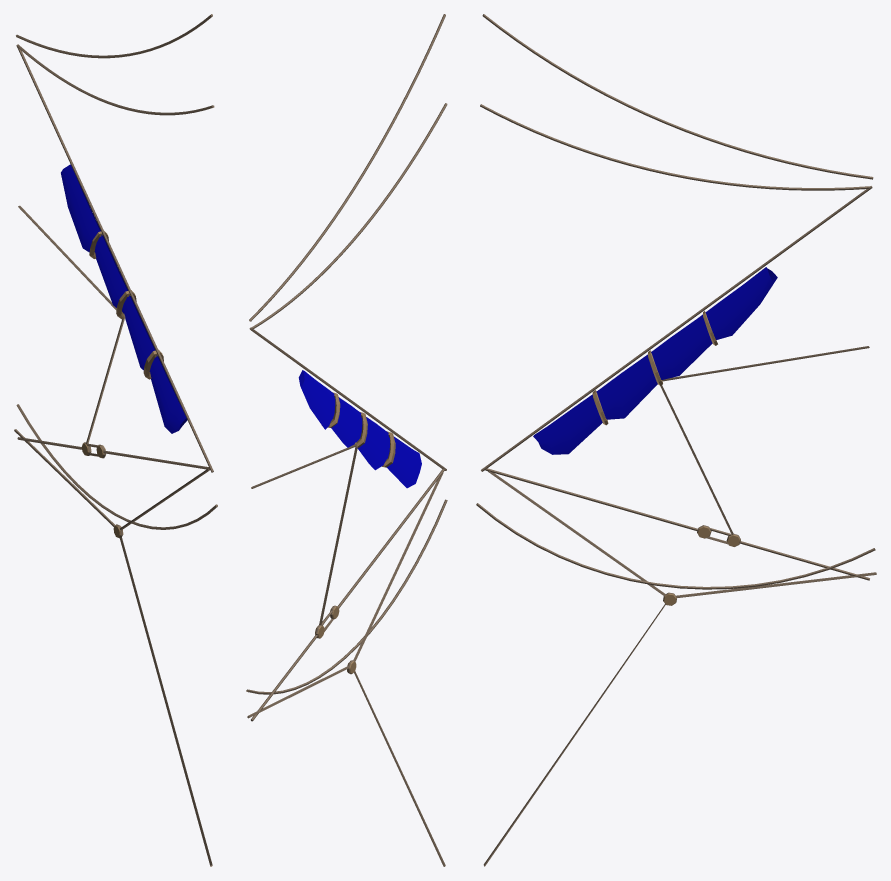
The model's file is SM_Veh_Ship_L_01_Rigging_Middle_02_Tied_01.fbx.
The picture shows the model from 3 angles, left to right: view 1: azimuth 30°, elevation 25°; view 2: azimuth 150°, elevation 25°; view 3: azimuth 270°, elevation 25°; orthographic projection.
Parts seen in each view (by area): view 1: SM_Veh_Ship_L_01_Rigging_Middle_02_Tied_01; view 2: SM_Veh_Ship_L_01_Rigging_Middle_02_Tied_01; view 3: SM_Veh_Ship_L_01_Rigging_Middle_02_Tied_01.
Part boxes in pixels (box(x1,y1,x2,y2)): SM_Veh_Ship_L_01_Rigging_Middle_02_Tied_01: box(14, 14, 217, 866); SM_Veh_Ship_L_01_Rigging_Middle_02_Tied_01: box(246, 14, 447, 866); SM_Veh_Ship_L_01_Rigging_Middle_02_Tied_01: box(476, 14, 876, 866).
Size of the model in its own units: 68.68 by 3005 by 1279.
